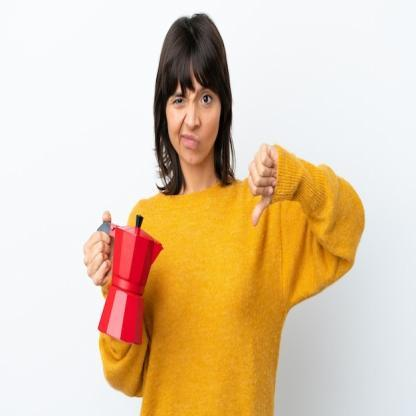thumb_down: (244, 139, 280, 230)
